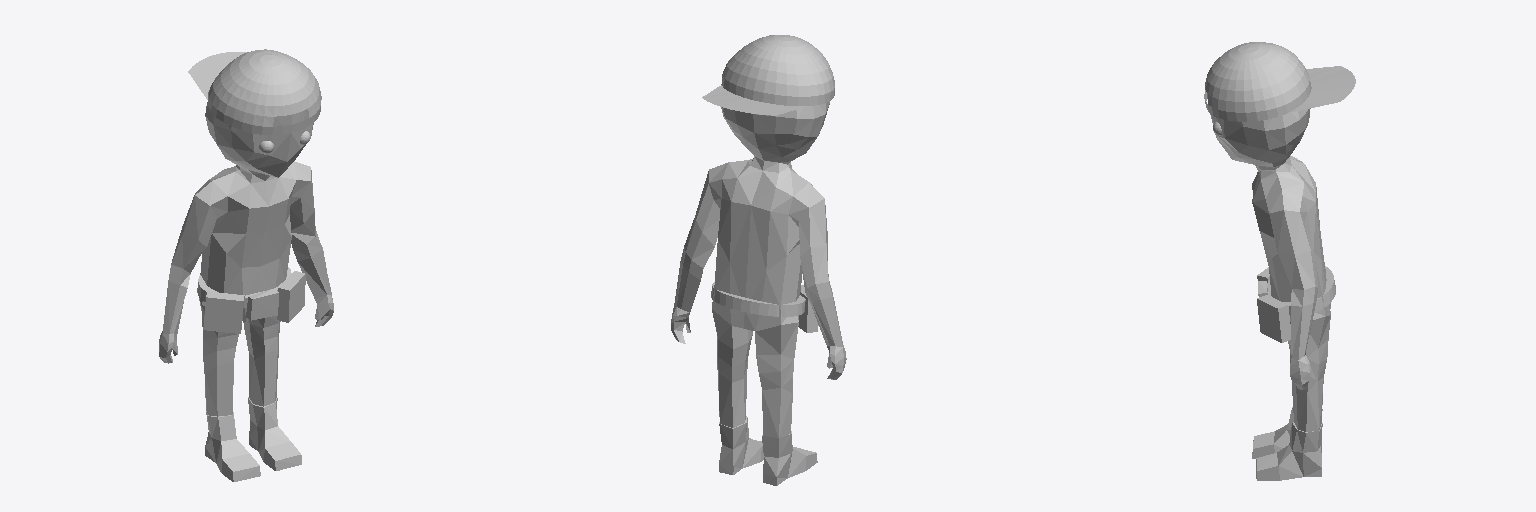
Rendered from Main_Character_Repair_2.obj.
The picture shows the model from 3 angles: view 1: azimuth 30°, elevation 25°; view 2: azimuth 150°, elevation 25°; view 3: azimuth 270°, elevation 25°; orthographic projection.
Visible parts, largest first — view 1: Main_Character_Test.003_Main_Character_Test.004; view 2: Main_Character_Test.003_Main_Character_Test.004; view 3: Main_Character_Test.003_Main_Character_Test.004.
Boxes of the visible parts, <box> form: Main_Character_Test.003_Main_Character_Test.004: <box>159,49,333,481</box>; Main_Character_Test.003_Main_Character_Test.004: <box>671,35,846,485</box>; Main_Character_Test.003_Main_Character_Test.004: <box>1204,42,1355,480</box>.
Bounding box in the file's own units: 1.7 × 3.95 × 1.3.